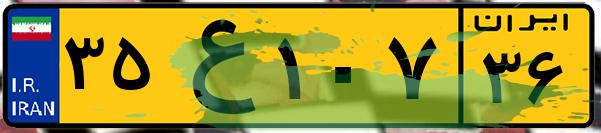0: (330, 28, 385, 110)
1: (270, 28, 330, 110)
3: (57, 26, 110, 100), (475, 38, 525, 113)
5: (110, 28, 158, 98)
6: (525, 38, 570, 115)
7: (385, 28, 445, 110)
ع: (158, 12, 270, 120)
